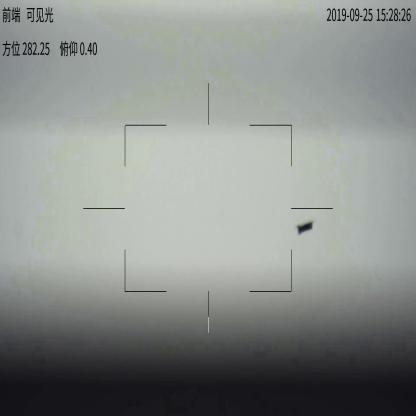uav: (296, 219, 312, 236)
